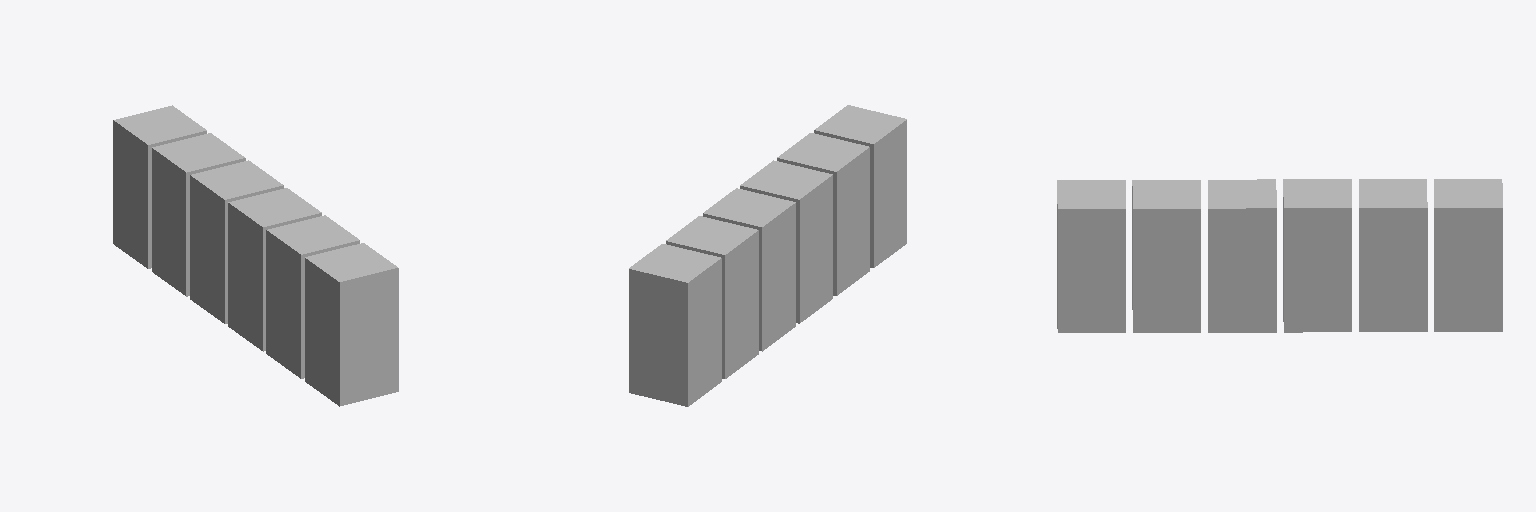
The model's file is Wardrobe.obj.
The picture shows the model from 3 angles: view 1: azimuth 30°, elevation 25°; view 2: azimuth 150°, elevation 25°; view 3: azimuth 270°, elevation 25°; orthographic projection.
Parts seen in each view (by area): view 1: polySurface21; view 2: polySurface21; view 3: polySurface21.
Boxes of the visible parts, x1,y1,x2,y2 form: polySurface21: [113, 105, 398, 406]; polySurface21: [629, 105, 906, 406]; polySurface21: [1057, 179, 1502, 332].
Size of the model in its own units: 1.06 by 2 by 6.51.